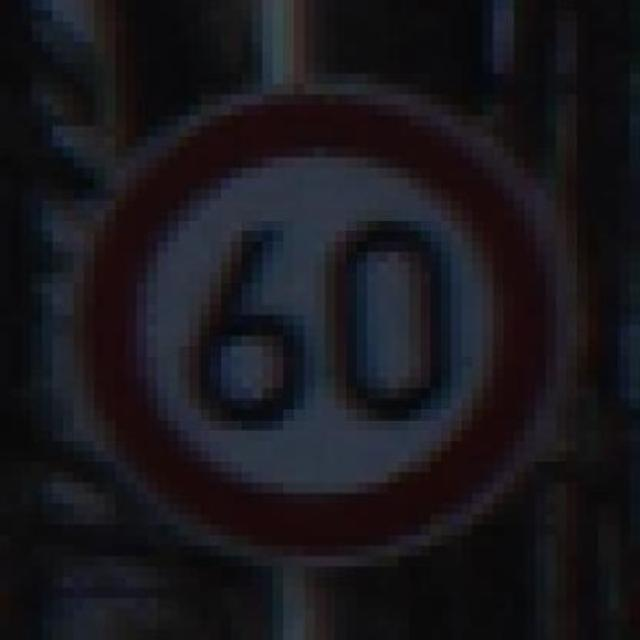forb_speed_over_60: (75, 88, 552, 554)
